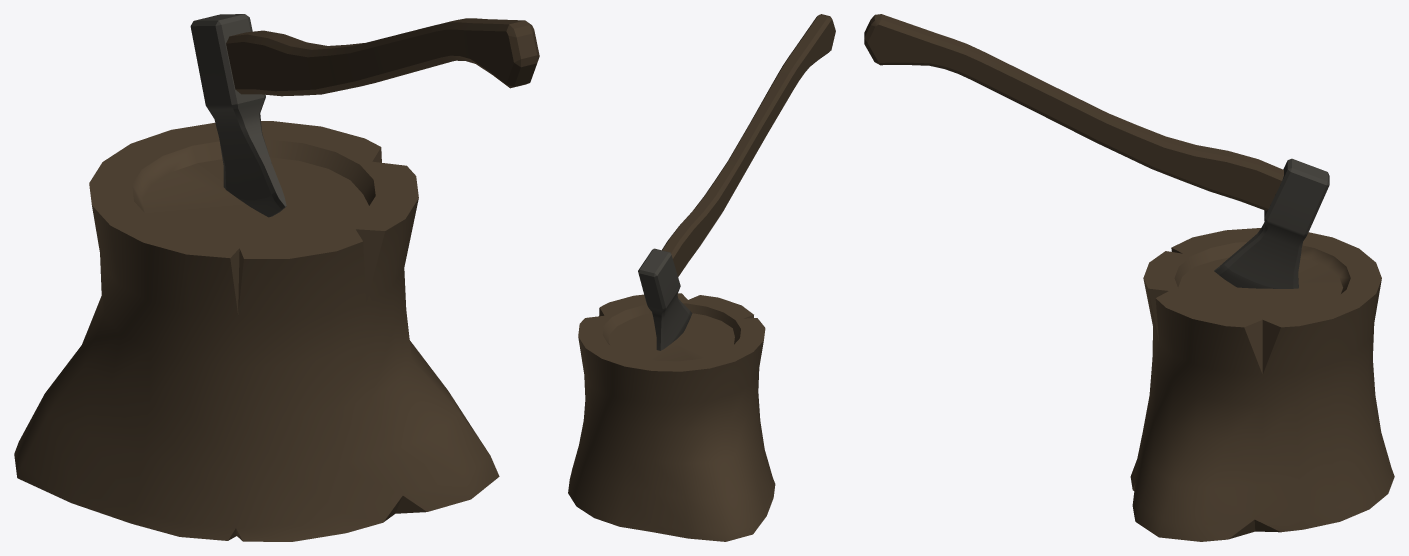
Rendered from axe.fbx.
3 renders of one model, left to right at view 1: azimuth 30°, elevation 25°; view 2: azimuth 150°, elevation 25°; view 3: azimuth 270°, elevation 25°, orthographic. The views are drawn at different scales.
Visible parts, largest first — view 1: Trunk, Handle, Axe_Head; view 2: Trunk, Handle, Axe_Head; view 3: Trunk, Handle, Axe_Head.
Part boxes in pixels (x1,y1,x2,y2): Trunk: [14, 121, 499, 541]; Handle: [226, 18, 539, 96]; Axe_Head: [190, 14, 286, 217]; Trunk: [568, 293, 775, 541]; Handle: [662, 14, 835, 276]; Axe_Head: [638, 248, 692, 350]; Trunk: [1130, 228, 1394, 541]; Handle: [864, 14, 1283, 210]; Axe_Head: [1214, 158, 1329, 288].
Bounding box in the file's own units: 12.84 × 20.8 × 21.78.
